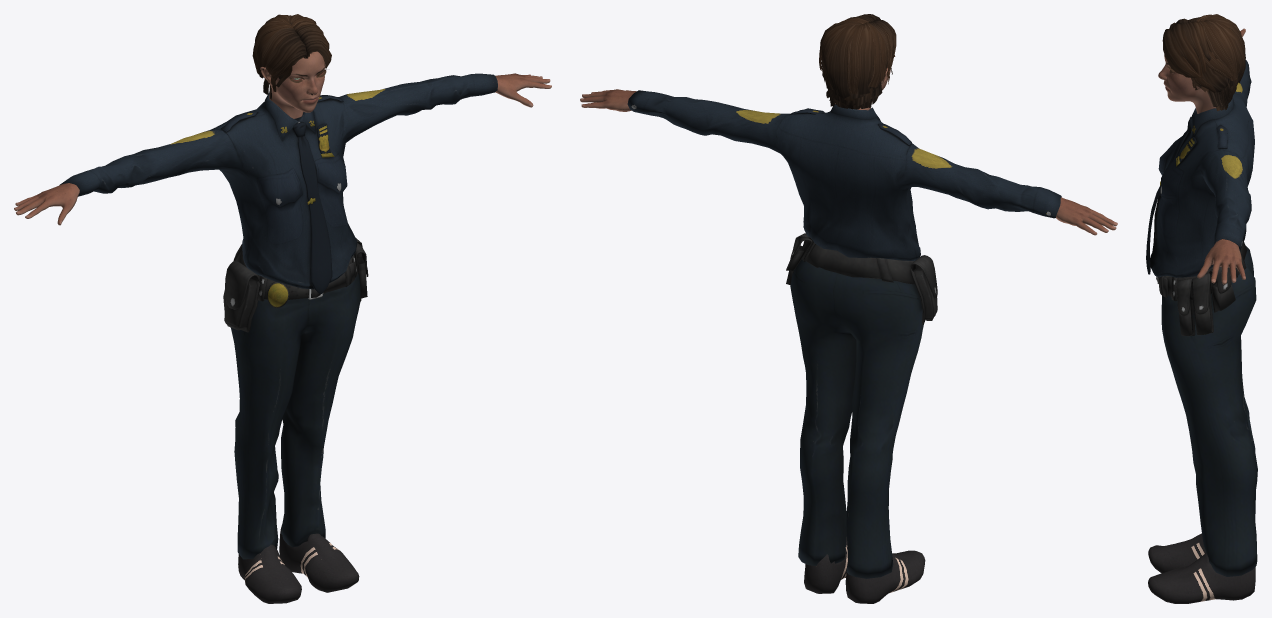
The picture shows the model from 3 angles, left to right: view 1: azimuth 30°, elevation 25°; view 2: azimuth 150°, elevation 25°; view 3: azimuth 270°, elevation 25°; orthographic projection.
Parts seen in each view (by area): view 1: Tops, Bottoms, Shoes, Body, Hair; view 2: Bottoms, Tops, Hair, Shoes, Body; view 3: Bottoms, Tops, Hair, Shoes, Body.
Boxes of the visible parts, x1,y1,x2,y2 form: Tops: (59, 73, 497, 293); Bottoms: (223, 238, 368, 559); Shoes: (238, 524, 359, 603); Body: (14, 26, 551, 225); Hair: (252, 14, 331, 99); Bottoms: (786, 233, 937, 578); Tops: (627, 90, 1061, 261); Hair: (819, 14, 896, 109); Shoes: (804, 536, 925, 603); Body: (580, 68, 1117, 235); Bottoms: (1156, 242, 1257, 576); Tops: (1146, 54, 1254, 277); Hair: (1162, 14, 1245, 111); Shoes: (1148, 533, 1255, 603); Body: (1158, 28, 1245, 284).
Size of the model in its own units: 170 by 172 by 30.73.
5 materials, 5 textured.
